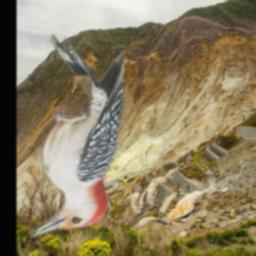Woodpecker: (25, 35, 125, 238)
